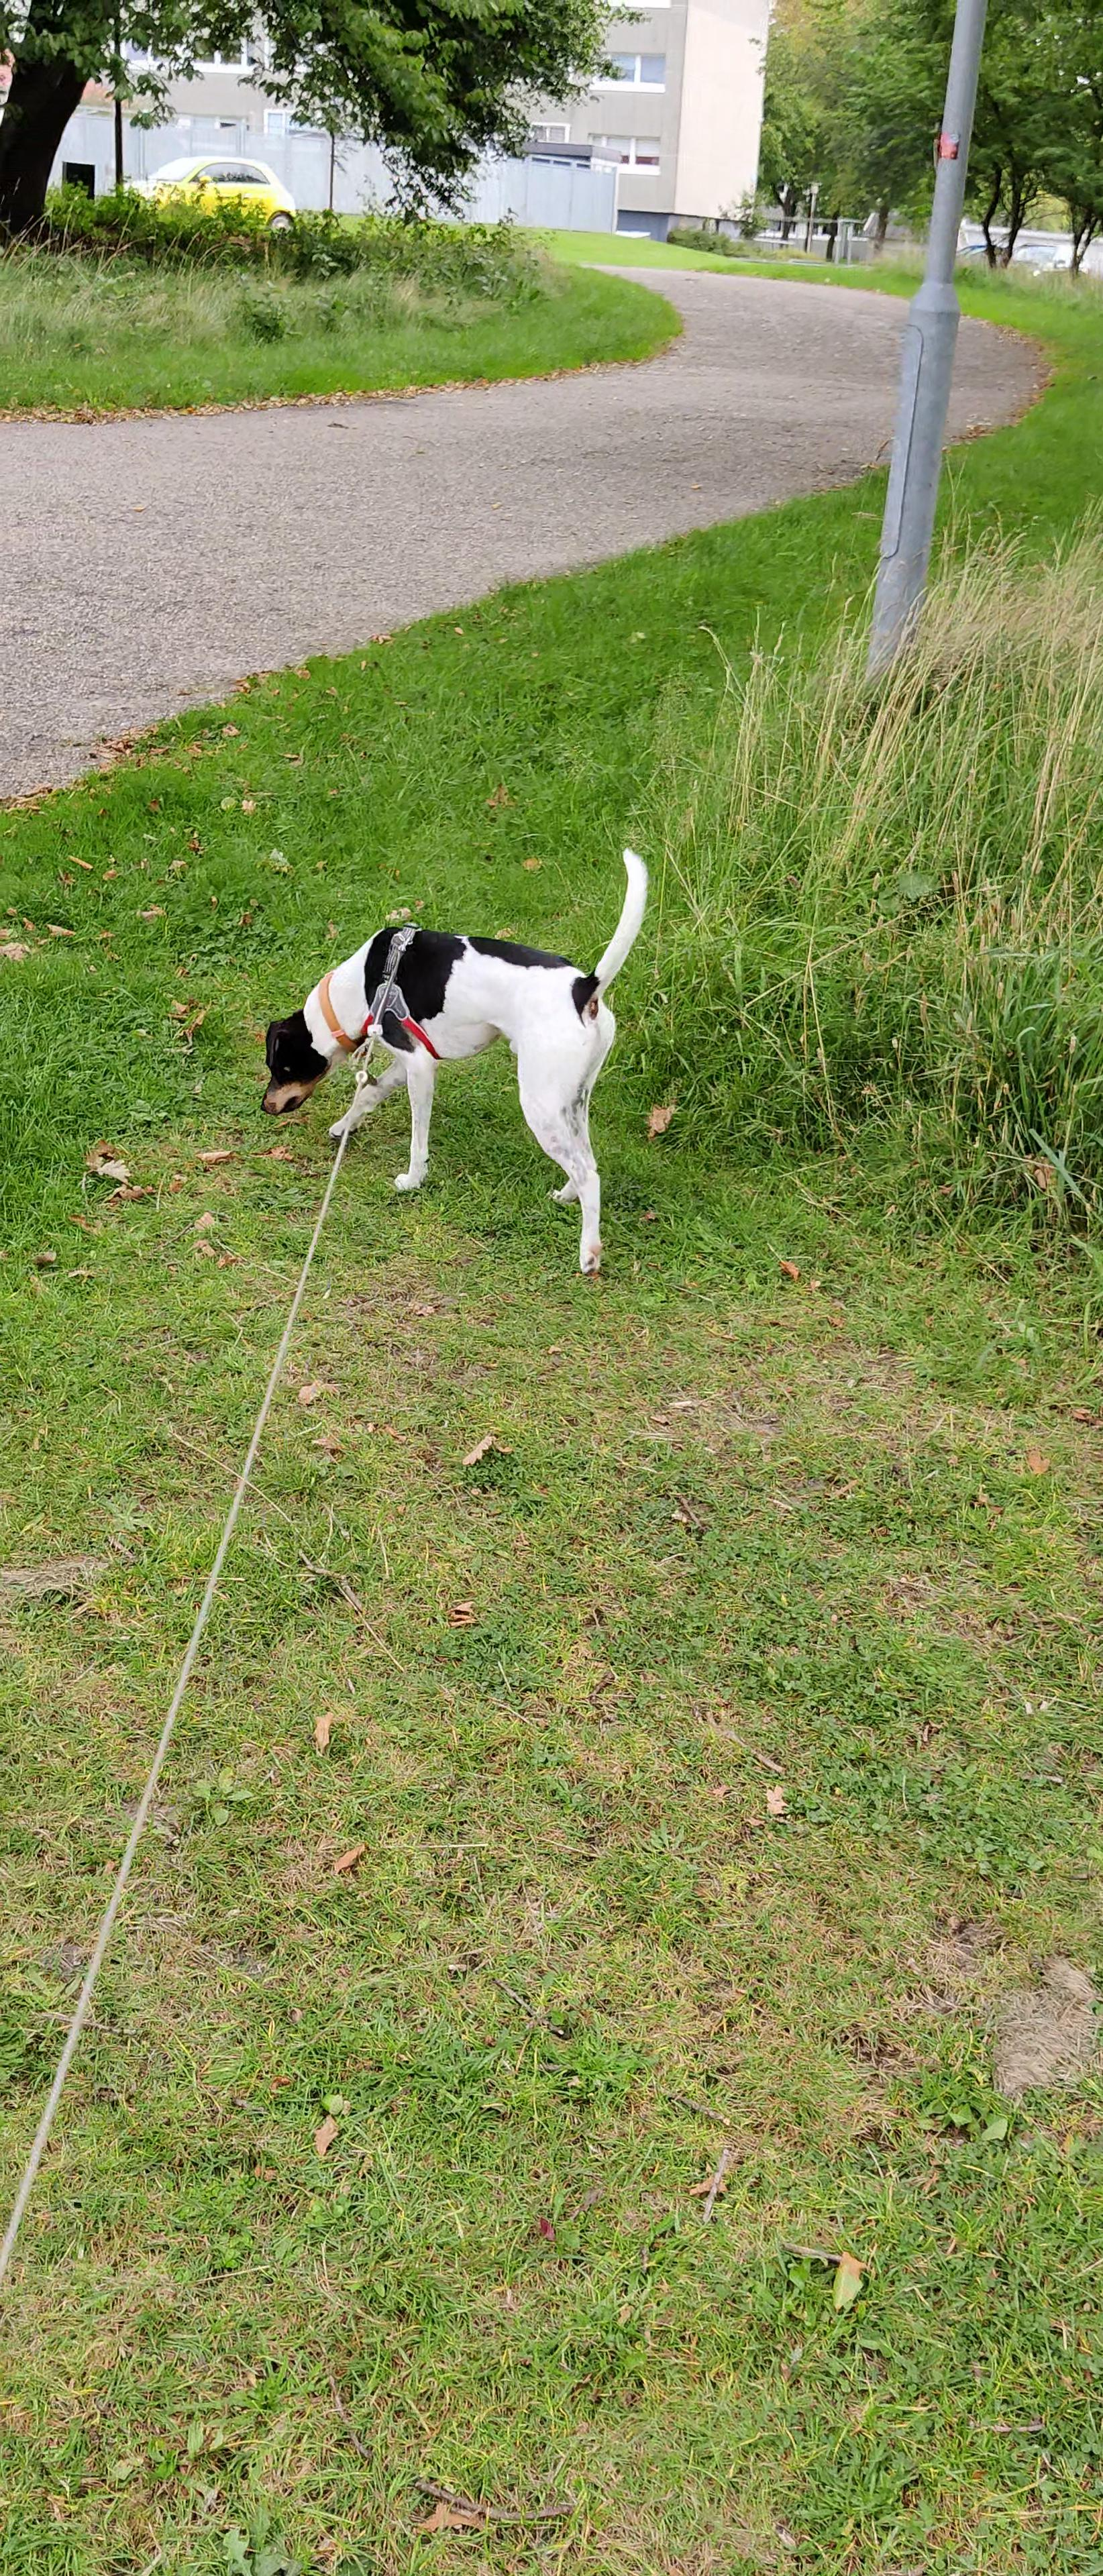Dog: (228, 821, 676, 1295)
